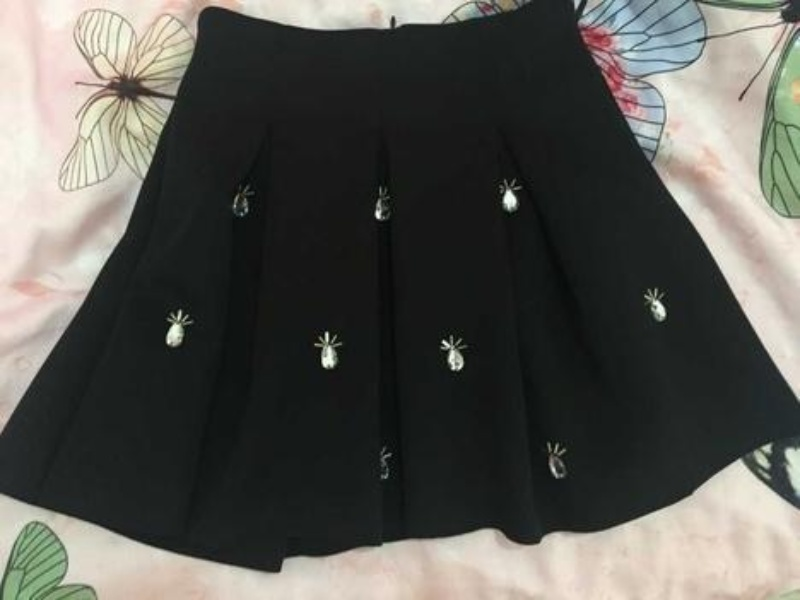skirt: (0, 2, 798, 574)
